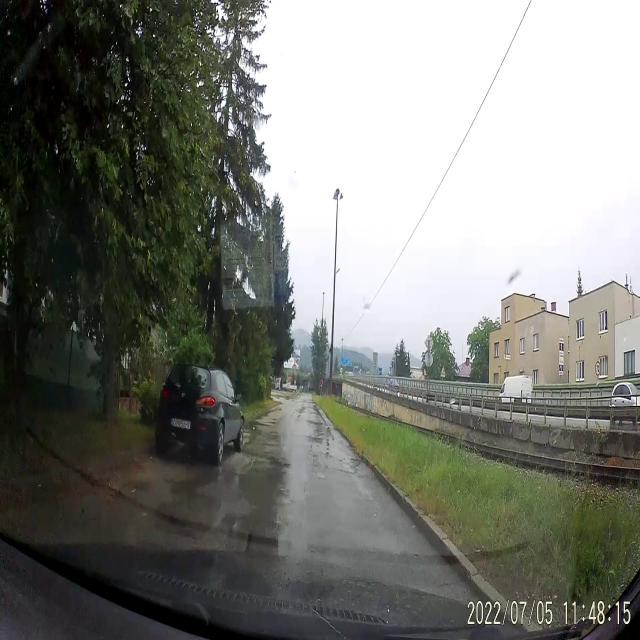Pothole: (341, 450, 362, 478), (279, 457, 294, 478), (297, 402, 307, 418)
